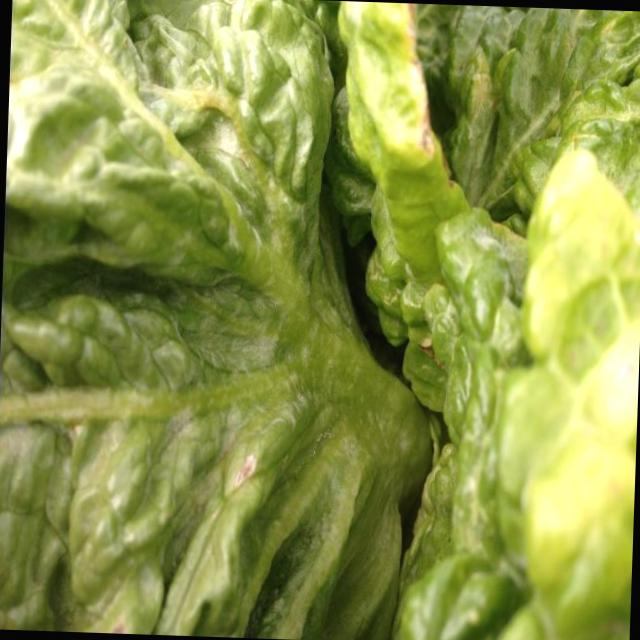Powdery_mildew_on_lettuce: (62, 278, 346, 566)
